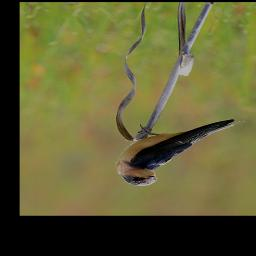Swallow: (115, 115, 248, 190)
